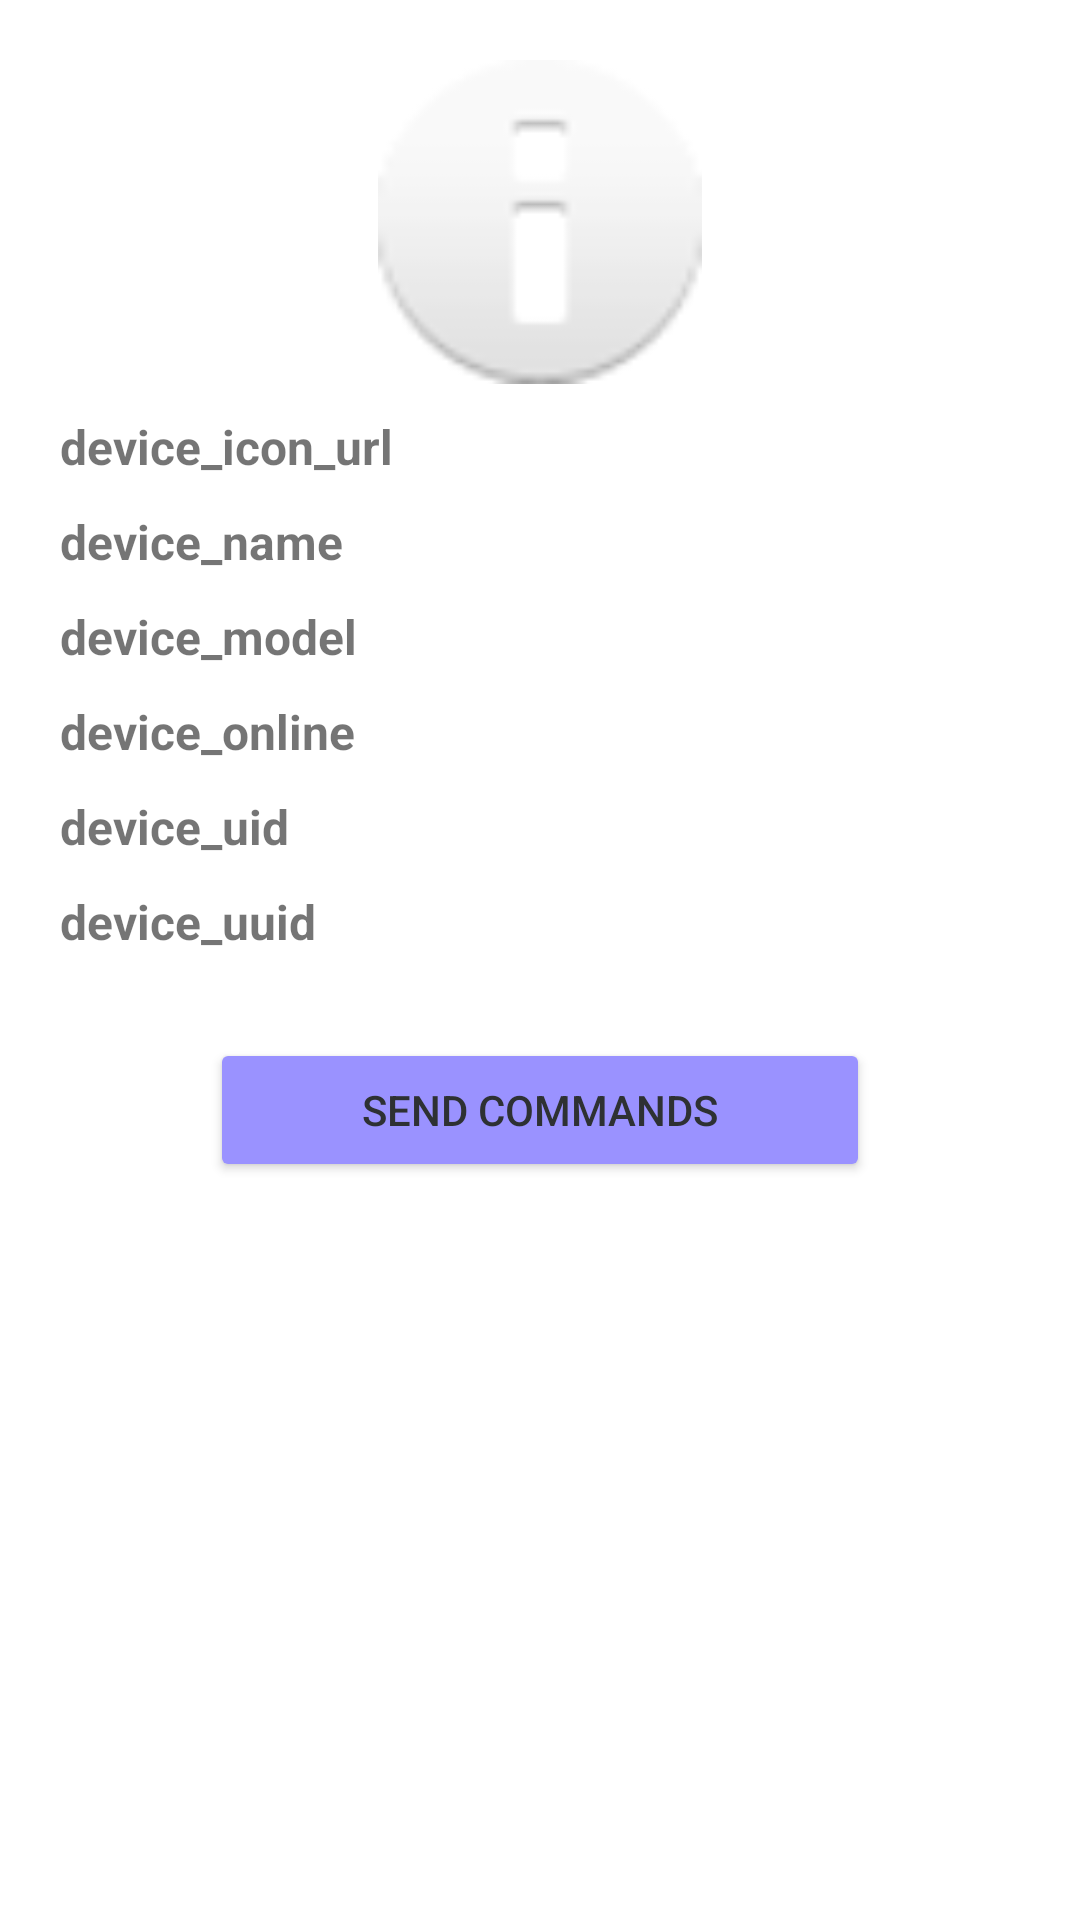

Icon bounding boxes for this 1080 × 1920 phone screenshot, format (x1, y1, x2, y2):
info: (378, 119, 702, 384)
